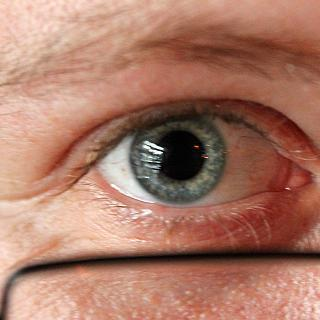pupil: (152, 130, 205, 183)
